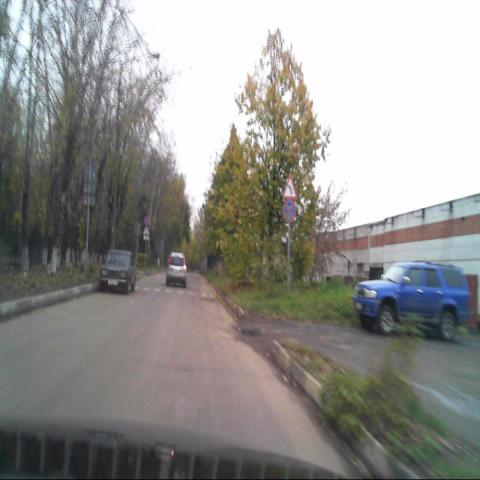1_11_1: (282, 175, 297, 199)
